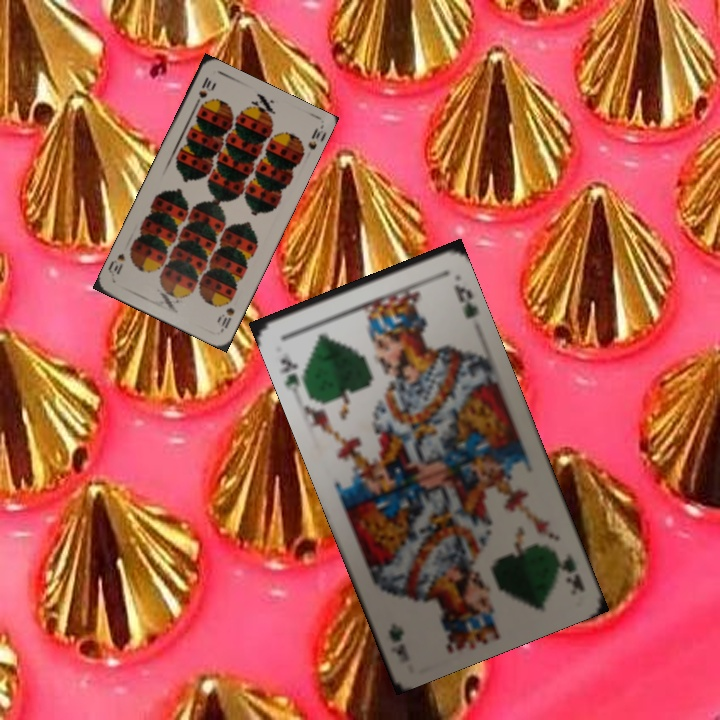GK: (554, 549, 587, 597), (276, 354, 303, 394)
S10: (190, 73, 217, 110), (214, 303, 237, 333)
